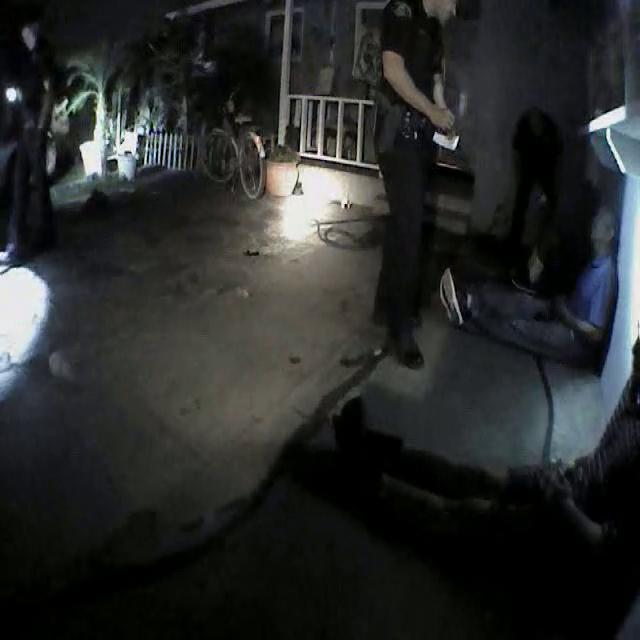gun: (361, 80, 423, 166)
